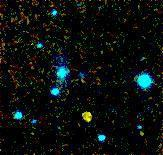star: (74, 101, 104, 131)
